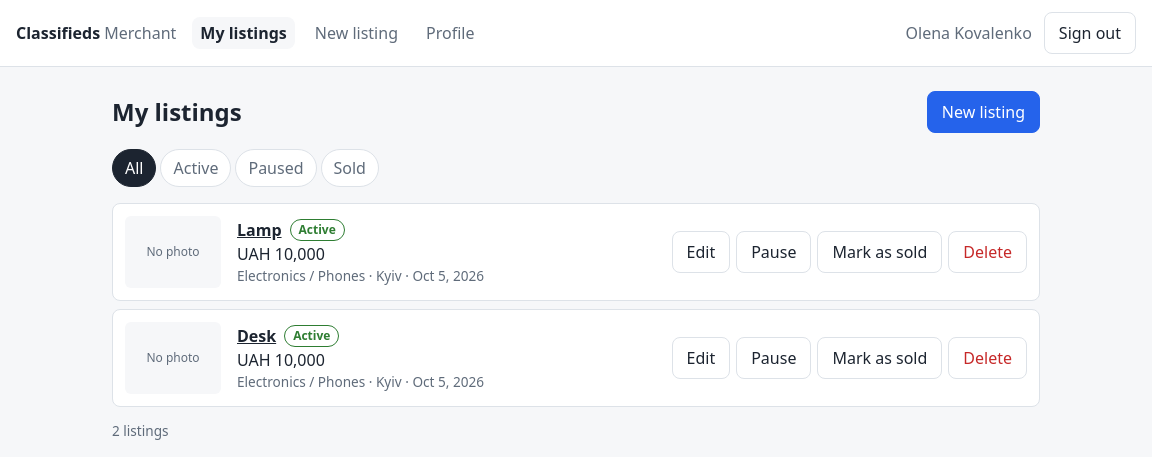
my listings page › deletes a listing after confirmation
The width and height of the screenshot is (1152, 457).
Expected: the list item "Lamp" is shown, top-left (112, 203), bottom-right (1040, 301)
Click the button "Delete" in the row of "Lamp".
click(988, 252)  # box top-left (948, 231), bottom-right (1027, 273)
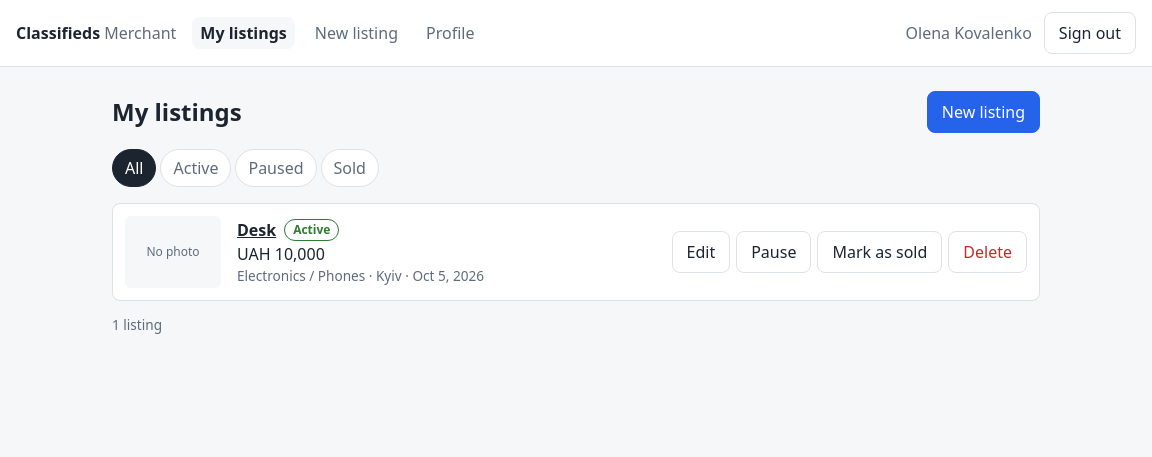
Expected: the list item "Desk" is shown, top-left (112, 203), bottom-right (1040, 301)
Expected: the link "Lamp" is gone
